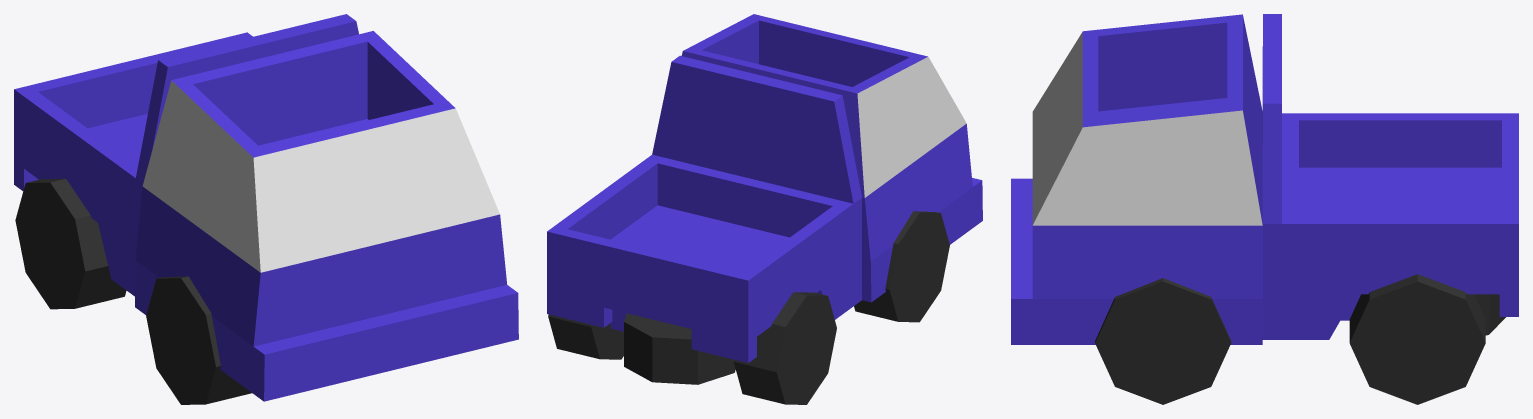
The model's file is Car_temp.fbx.
The picture shows the model from 3 angles, left to right: view 1: azimuth 30°, elevation 25°; view 2: azimuth 150°, elevation 25°; view 3: azimuth 270°, elevation 25°; orthographic projection. The views are drawn at different scales.
Parts seen in each view (by area): view 1: Car; view 2: Car; view 3: Car.
Boxes of the visible parts, x1,y1,x2,y2 form: Car: (14,14,518,404); Car: (547,14,982,404); Car: (1011,14,1518,404).
Bounding box in the file's own units: 0.9664 × 1.02 × 1.65.
